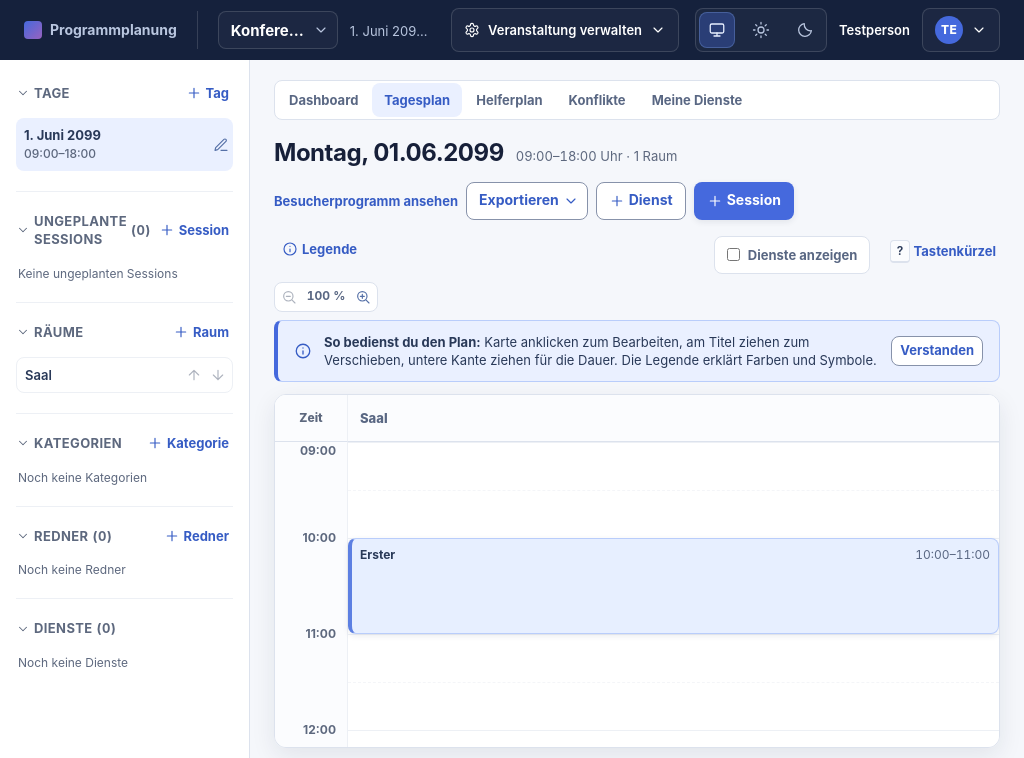
switches slots without asking when nothing changed
Click the button with aria-label "Erster bearbeiten".
click(378, 555)  # box [360, 547, 395, 563]
(page scrolled)
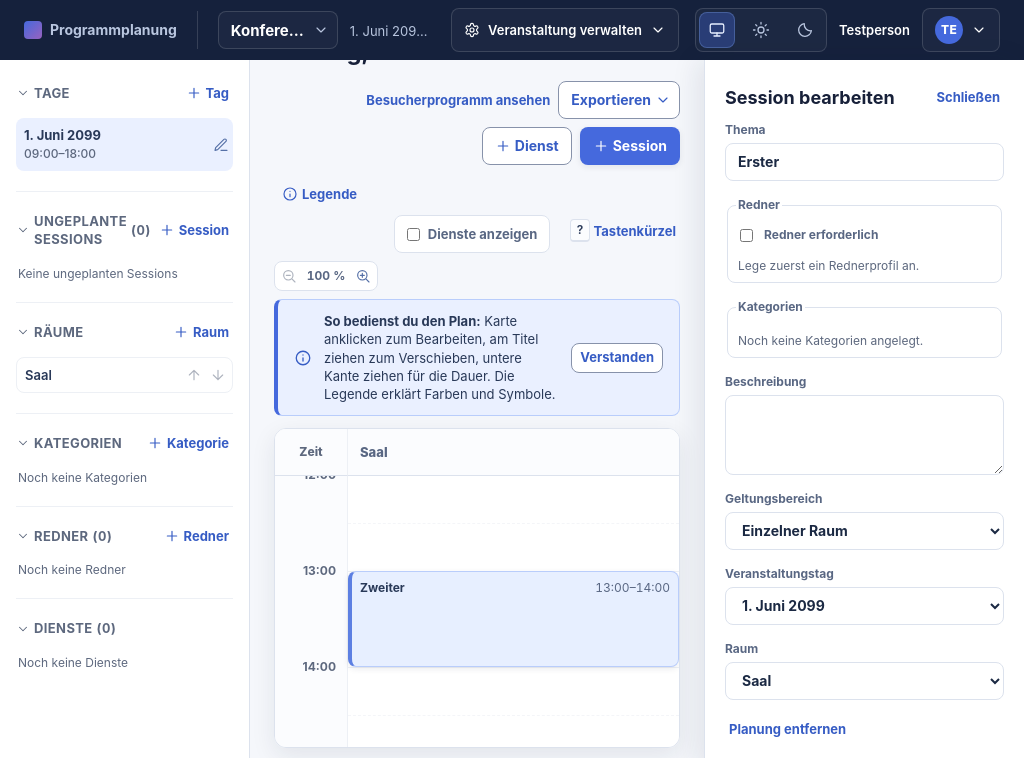
Click the button with aria-label "Zweiter bearbeiten".
click(382, 588)  # box [360, 580, 405, 596]
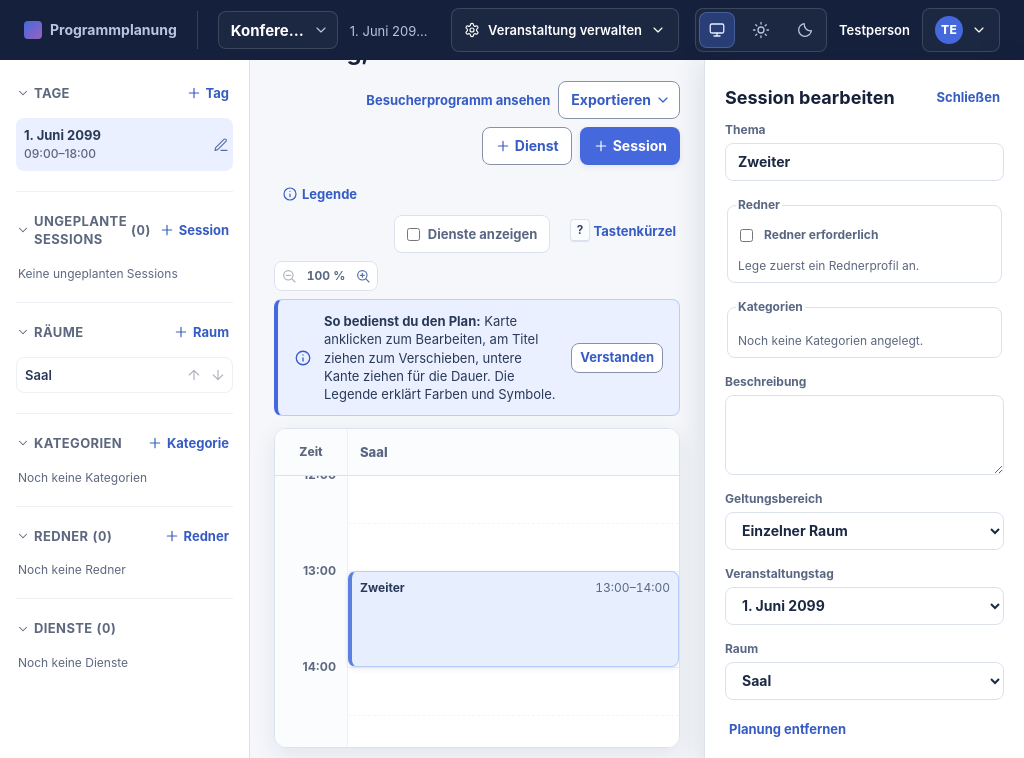
Check: the field labelled "Thema" holds "Zweiter", box [725, 143, 1004, 181]
